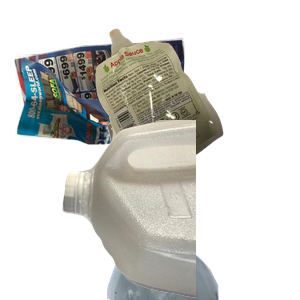glass: (83, 120, 294, 300)
paper: (12, 31, 196, 204)
plastic: (60, 120, 300, 300)
trash: (93, 26, 300, 200)
